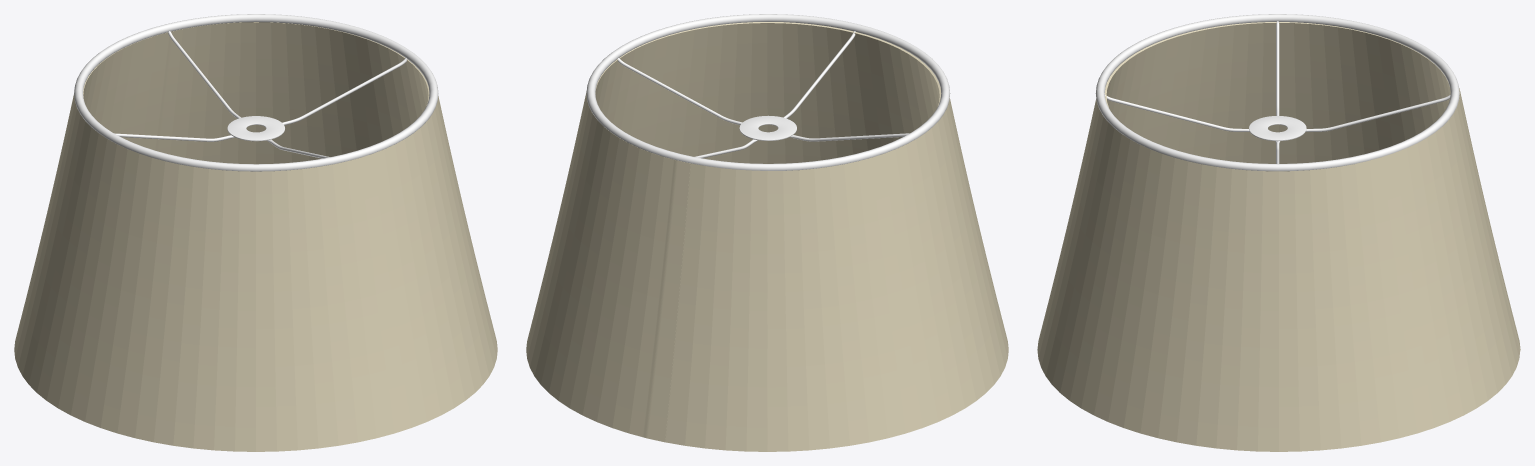
The model's file is lamp-shade-fbx.fbx.
The picture shows the model from 3 angles, left to right: view 1: azimuth 30°, elevation 25°; view 2: azimuth 150°, elevation 25°; view 3: azimuth 270°, elevation 25°; orthographic projection.
Visible parts, largest first — view 1: shade; view 2: shade; view 3: shade.
Boxes of the visible parts, x1=… form: shade: x1=14, y1=14, x2=497, y2=451; shade: x1=526, y1=14, x2=1008, y2=451; shade: x1=1037, y1=14, x2=1520, y2=451.
Size of the model in its own units: 1.06 by 0.6323 by 1.06.
